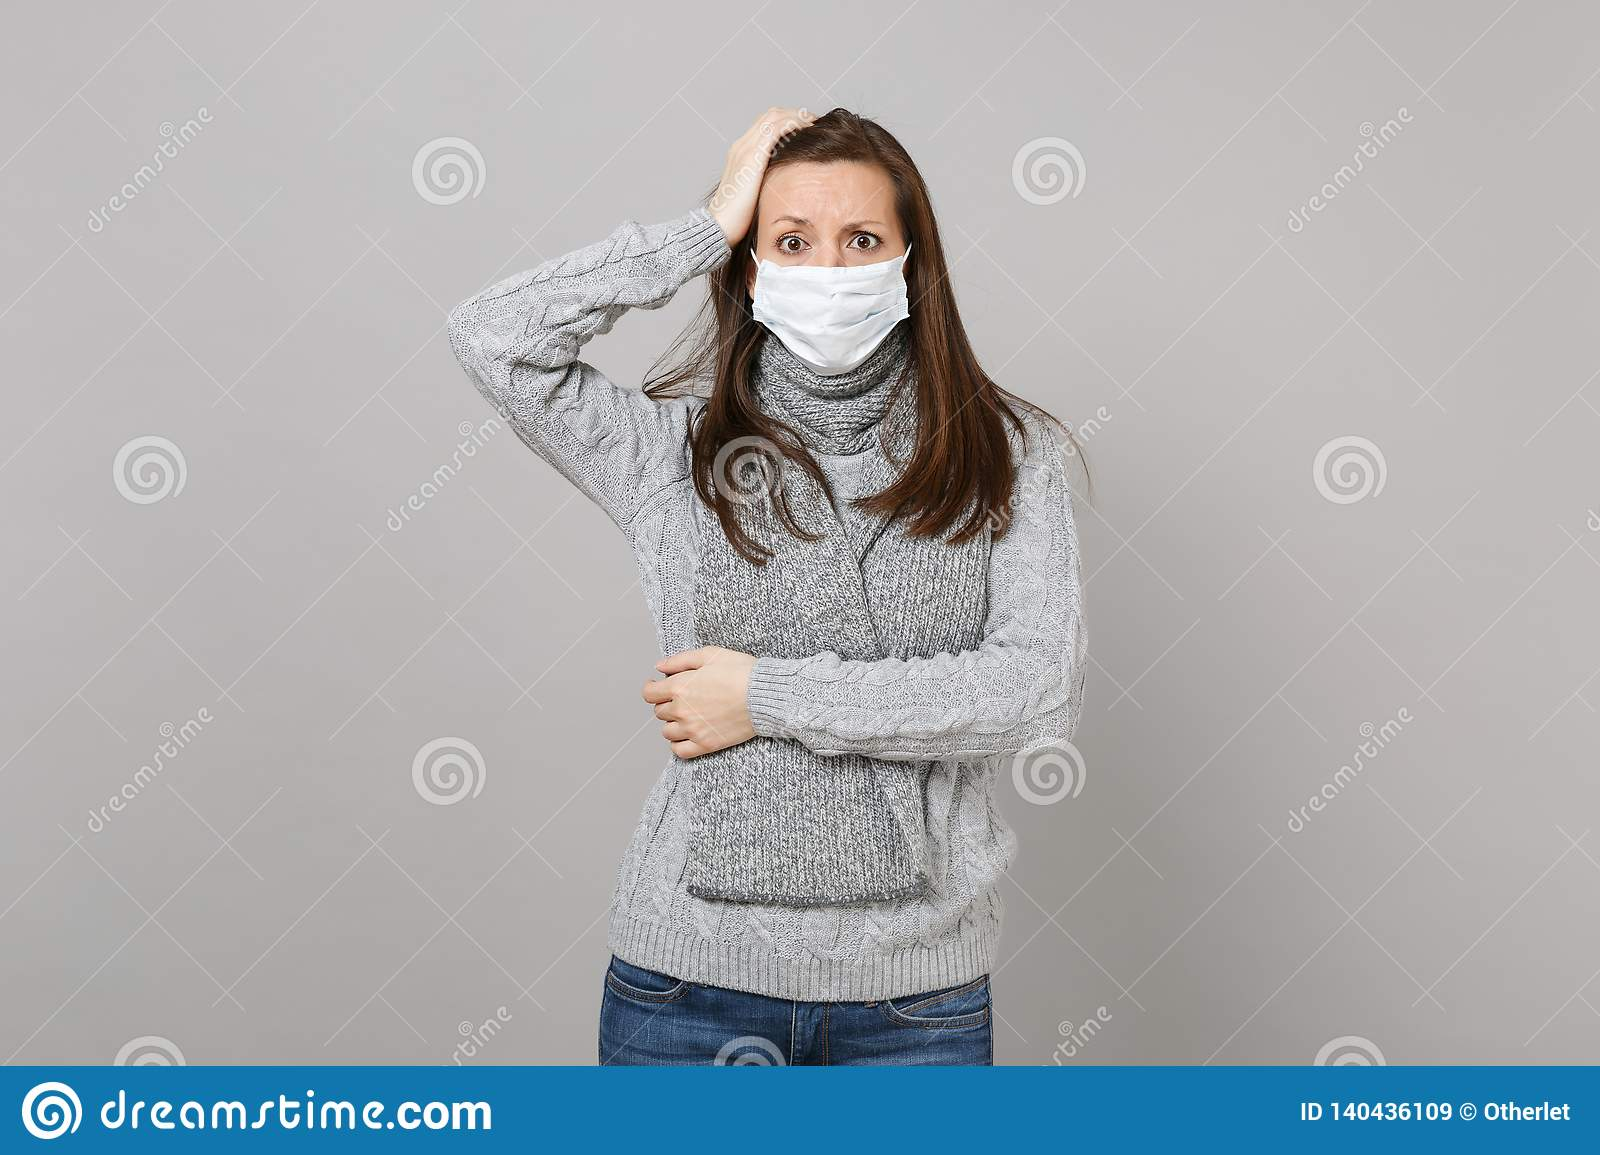mask: (752, 255, 912, 374)
